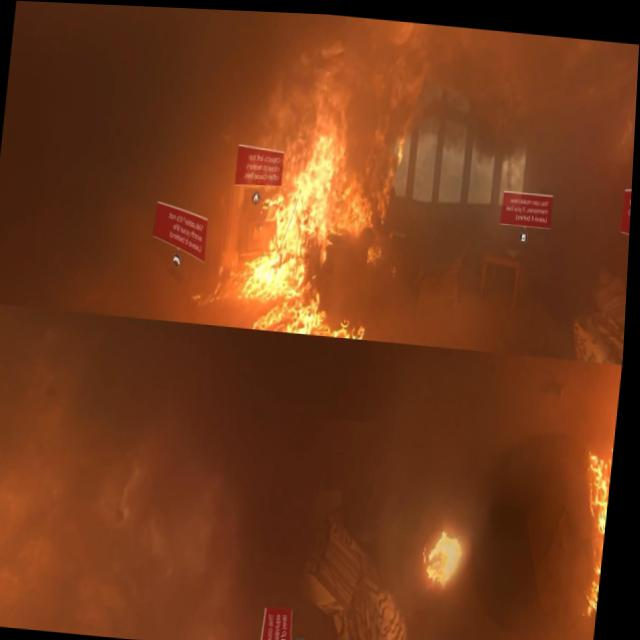fire: (201, 81, 412, 341), (570, 413, 621, 619), (422, 509, 479, 596)
